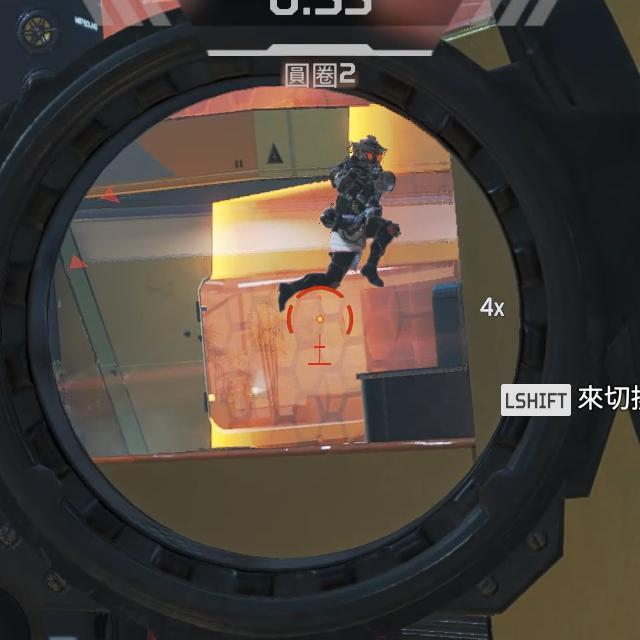avatar: (317, 131, 403, 297)
